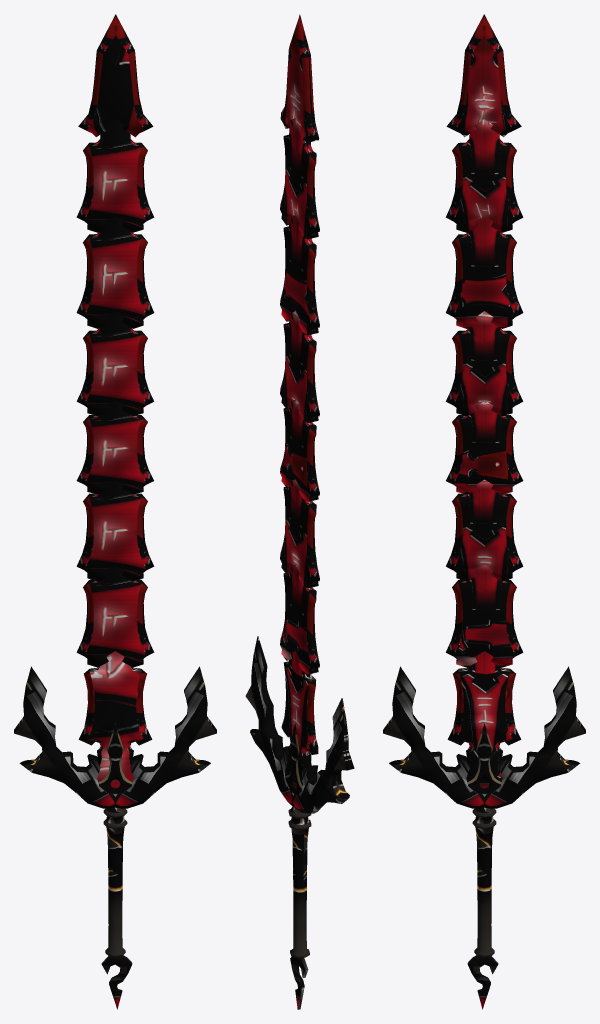
The model's file is edgepunisher20.obj.
The picture shows the model from 3 angles, left to right: view 1: azimuth 90°, elevation 25°; view 2: azimuth 210°, elevation 25°; view 3: azimuth 270°, elevation 25°; orthographic projection.
Parts seen in each view (by area): view 1: MDL_w22sw20_root, MDL_w22sw20_06, MDL_w22sw20_07, MDL_w22sw20_01, MDL_w22sw20_05, MDL_w22sw20_03, MDL_w22sw20_02, MDL_w22sw20_04, MDL_w22sw20_08; view 2: MDL_w22sw20_root, MDL_w22sw20_06, MDL_w22sw20_07, MDL_w22sw20_01, MDL_w22sw20_05, MDL_w22sw20_03, MDL_w22sw20_02, MDL_w22sw20_08, MDL_w22sw20_04; view 3: MDL_w22sw20_root, MDL_w22sw20_06, MDL_w22sw20_07, MDL_w22sw20_01, MDL_w22sw20_05, MDL_w22sw20_03, MDL_w22sw20_02, MDL_w22sw20_04, MDL_w22sw20_08.
Part boxes in pixels (x1,y1,x2,y2): MDL_w22sw20_root: (14,666,216,1009); MDL_w22sw20_06: (76,216,154,328); MDL_w22sw20_07: (76,119,154,232); MDL_w22sw20_01: (78,651,152,788); MDL_w22sw20_05: (76,311,153,416); MDL_w22sw20_03: (76,479,154,581); MDL_w22sw20_02: (76,565,154,667); MDL_w22sw20_04: (76,400,153,494); MDL_w22sw20_08: (78,14,153,137); MDL_w22sw20_root: (245,636,354,1009); MDL_w22sw20_06: (280,215,319,334); MDL_w22sw20_07: (280,118,319,238); MDL_w22sw20_01: (281,651,318,788); MDL_w22sw20_05: (280,310,319,422); MDL_w22sw20_03: (280,479,319,587); MDL_w22sw20_02: (280,565,319,674); MDL_w22sw20_08: (280,14,319,143); MDL_w22sw20_04: (280,400,319,501); MDL_w22sw20_root: (383,666,585,1009); MDL_w22sw20_06: (446,216,523,328); MDL_w22sw20_07: (445,119,523,232); MDL_w22sw20_01: (447,651,521,788); MDL_w22sw20_05: (446,311,523,416); MDL_w22sw20_03: (446,479,523,581); MDL_w22sw20_02: (446,565,523,667); MDL_w22sw20_04: (446,400,523,494); MDL_w22sw20_08: (446,14,521,136).
Size of the model in its own units: 0.0432 by 2.01 by 0.3714.
